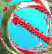No waiting: (4, 2, 51, 51)
